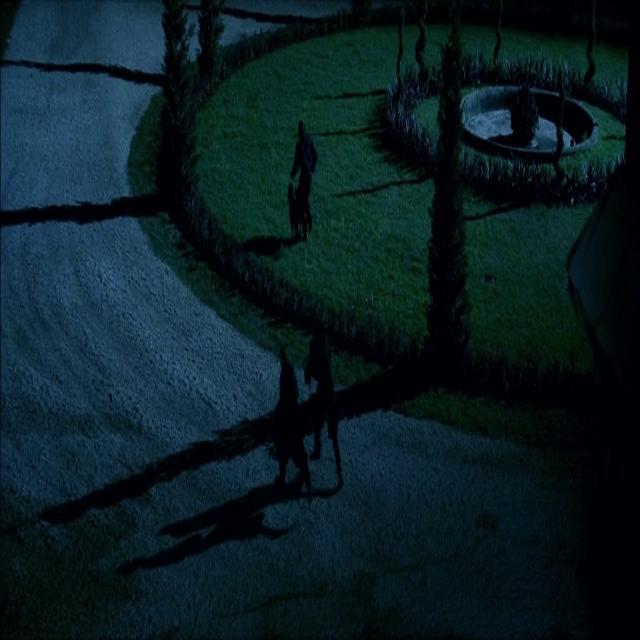People: (308, 305, 348, 506), (269, 337, 301, 515), (296, 71, 325, 235)
dog: (273, 144, 316, 243)
